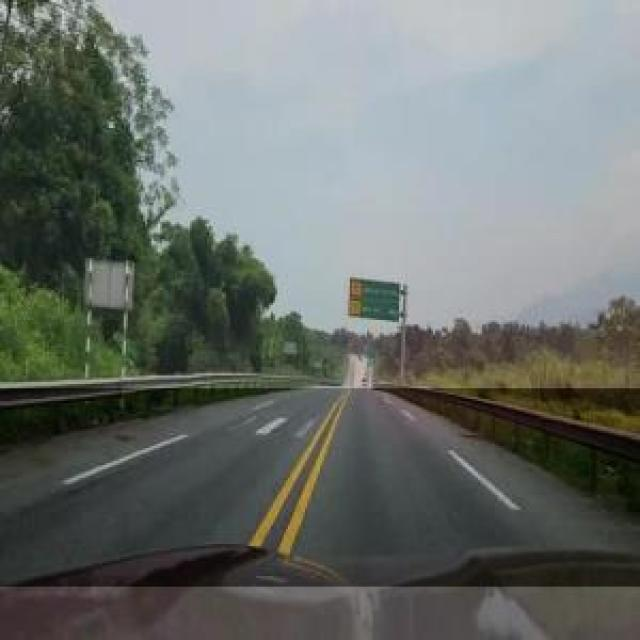clear-road: (0, 388, 640, 587)
